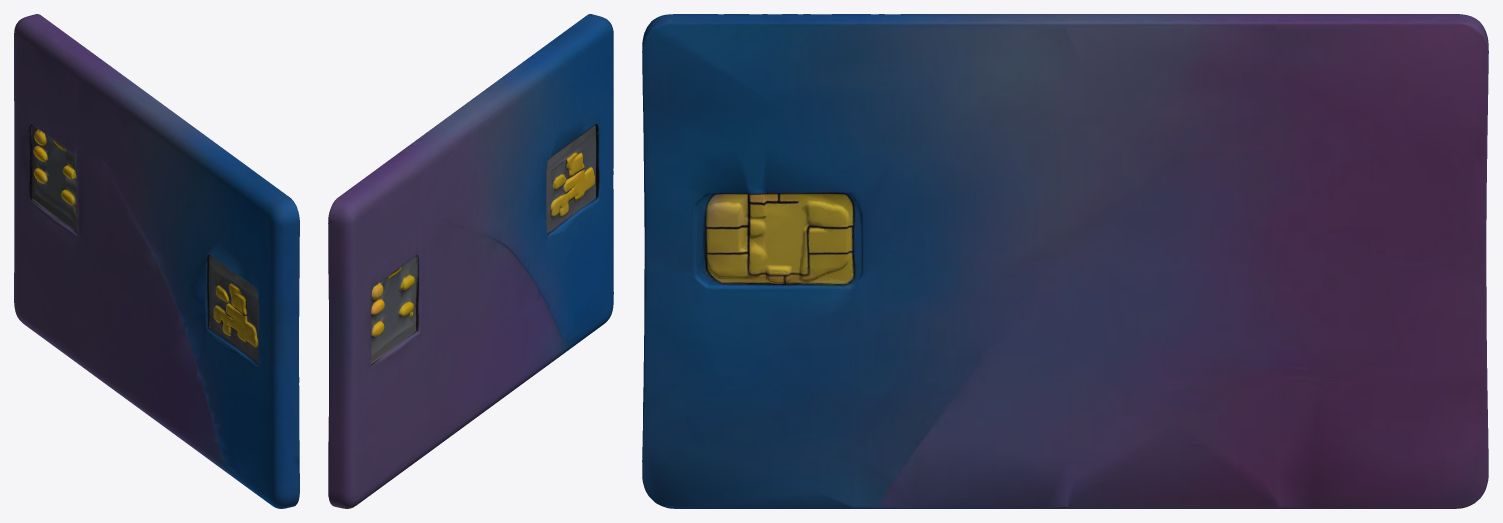
Rendered from credify-card.glb.
3 views of the same model, side by side, from view 1: azimuth 30°, elevation 25°; view 2: azimuth 150°, elevation 25°; view 3: azimuth 270°, elevation 25° (orthographic). The views are drawn at different scales.
Visible parts, largest first — view 1: tripo_node_4a0c2d8a-8857-499b-9c1a-22c3e91a39e9; view 2: tripo_node_4a0c2d8a-8857-499b-9c1a-22c3e91a39e9; view 3: tripo_node_4a0c2d8a-8857-499b-9c1a-22c3e91a39e9.
Part boxes in pixels (x1,y1,x2,y2): tripo_node_4a0c2d8a-8857-499b-9c1a-22c3e91a39e9: (14, 14, 299, 508); tripo_node_4a0c2d8a-8857-499b-9c1a-22c3e91a39e9: (328, 14, 613, 508); tripo_node_4a0c2d8a-8857-499b-9c1a-22c3e91a39e9: (642, 14, 1488, 508).
Bounding box in the file's own units: 0.0544 × 0.6336 × 0.9999.
Materials: 1 (1 with a texture image).
